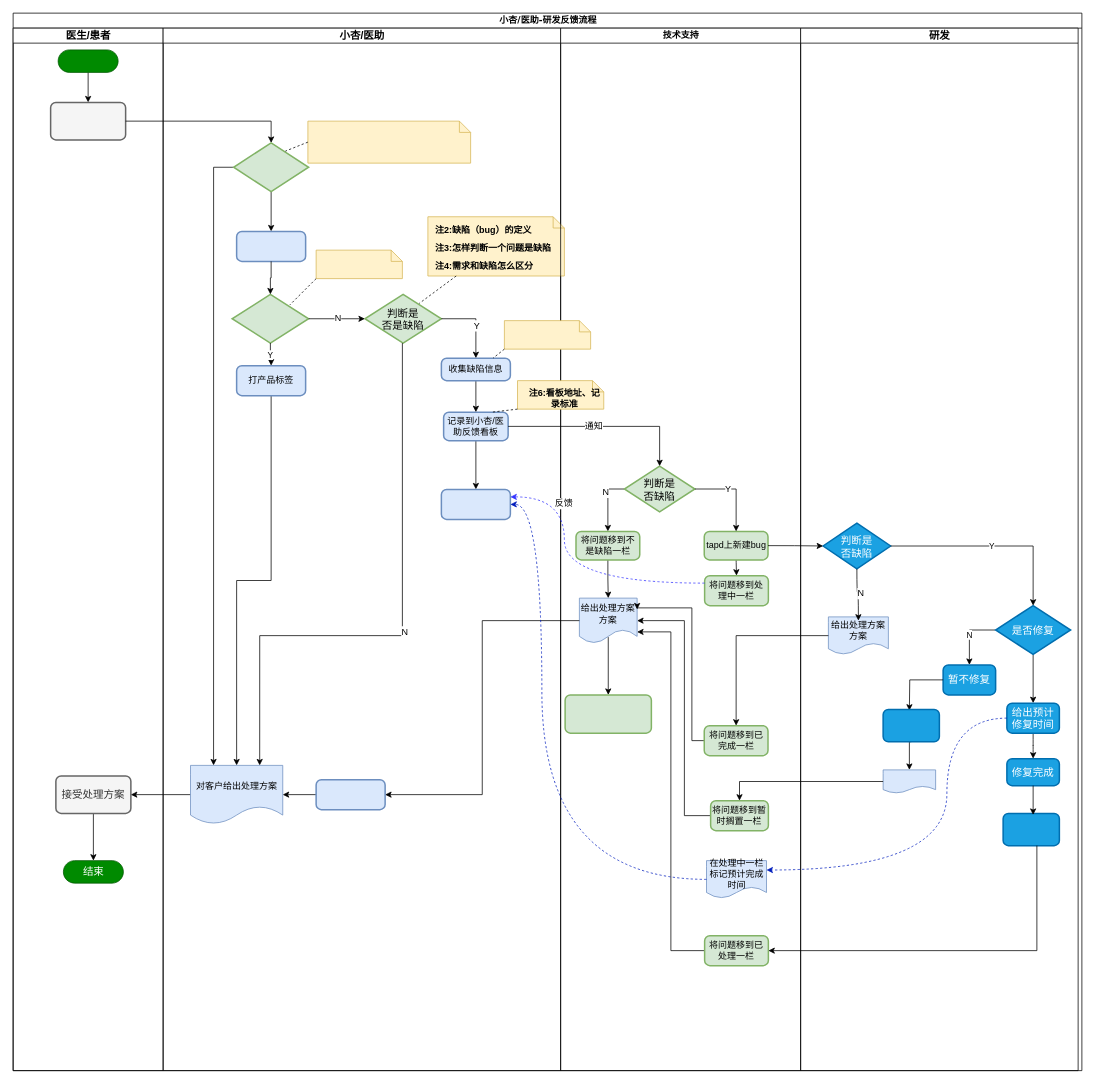
The diagram is 1095 pixels wide and 1084 high, and some of its shapes have lost their labels. The centre of each missing label's shape, as x and y in pixels:
"App/小程序 使用问题" goes at pixel 88 120.
"tapd 上bug标记已修复" goes at pixel 1031 829.
"tapd 上bug标记暂不修复" goes at pixel 911 725.
"判断方法：1、技术手册中查找 2、 小杏/医助反馈看板查找 3、bug系统中搜索 4、组内讨论 5、小微汇总" goes at pixel 389 141.
"判断是否需求" goes at pixel 270 318.
"判断问题类型" goes at pixel 271 246.
"将问题移到反馈归档一栏" goes at pixel 350 794.
"开始" goes at pixel 87 60.
"是否已重复问题" goes at pixel 270 167.
"注1: 怎么判断需求" goes at pixel 358 264.
"注5: 收集哪些信、 如何收集" goes at pixel 547 334.
"等待回复" goes at pixel 475 504.
"给出说明" goes at pixel 909 781.
"记录到技术手册 XX增加技术支持文档页面链接" goes at pixel 608 714.
